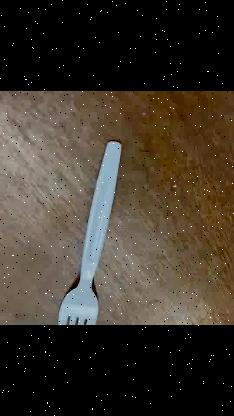Others: (57, 140, 121, 324)
